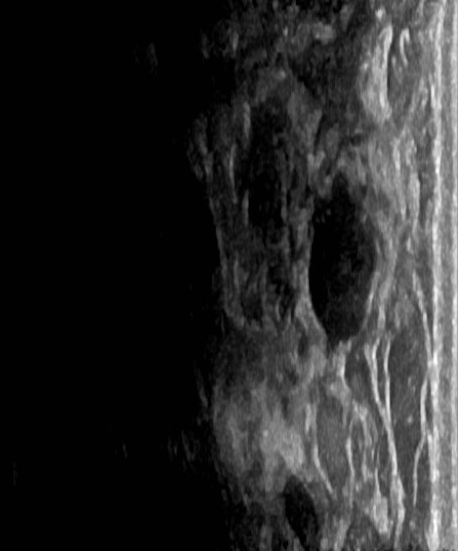Benign: (304, 196, 385, 340)
Normal: (22, 1, 448, 547)
